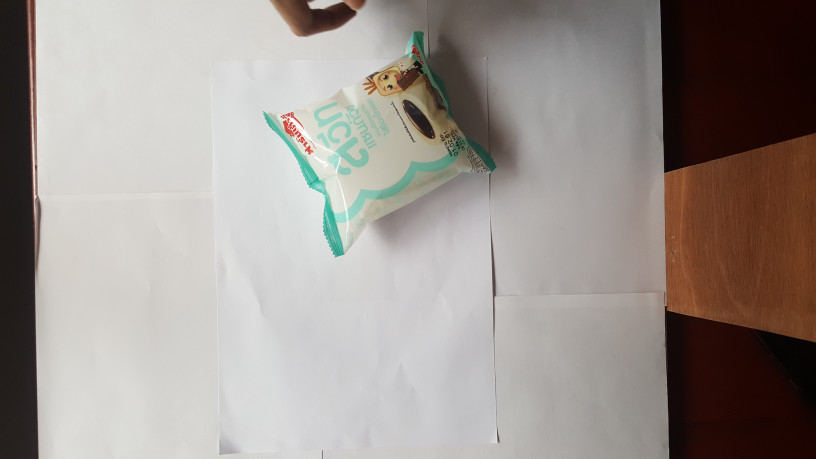farmhouse-sweetsandwich-chocolate: (261, 32, 493, 257)
